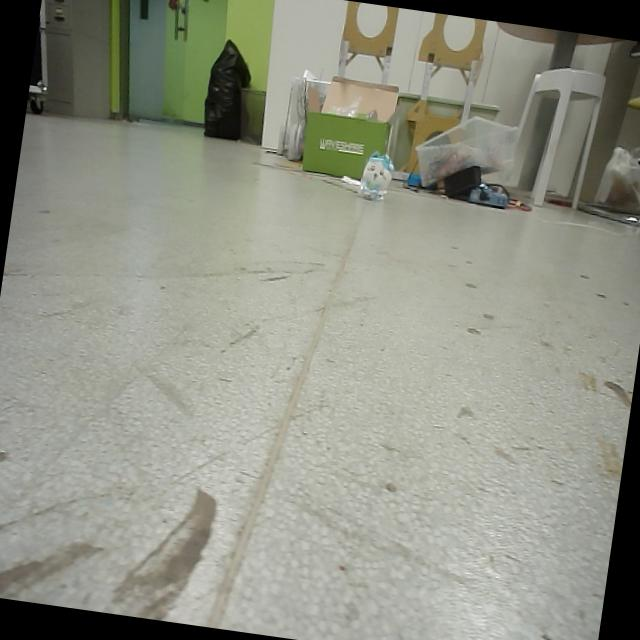xiaoba: (358, 148, 398, 205)
